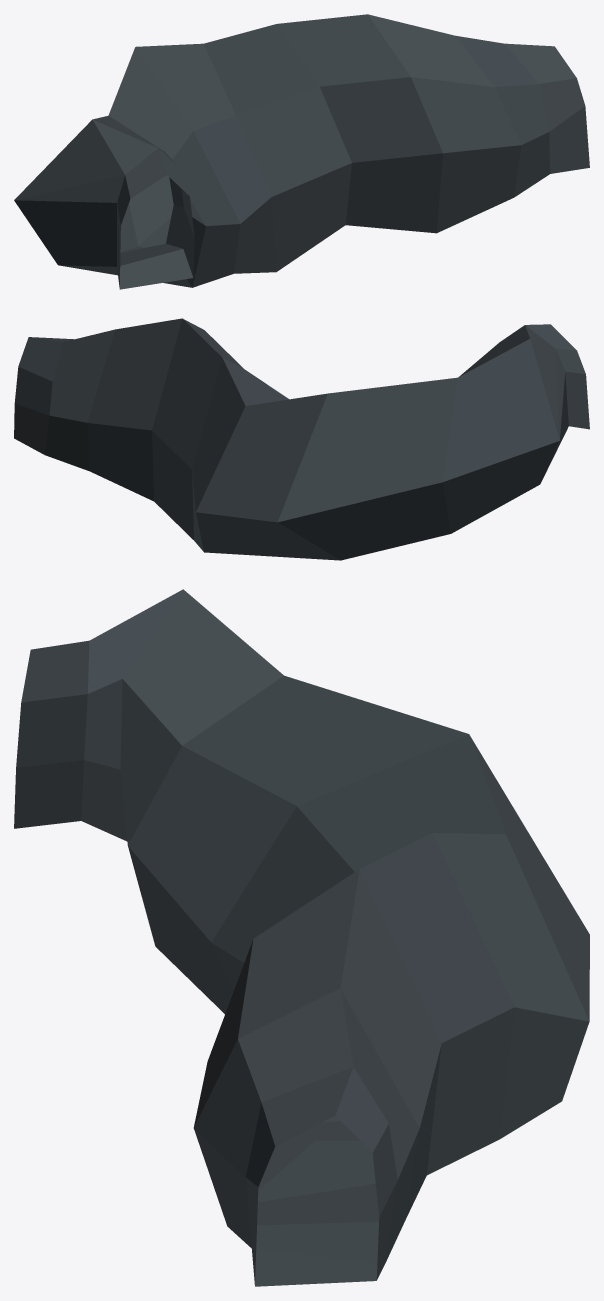
The model's file is Tunnel-C08.fbx.
3 views of the same model, one above another, from view 1: azimuth 30°, elevation 25°; view 2: azimuth 150°, elevation 25°; view 3: azimuth 270°, elevation 25° (orthographic). The views are drawn at different scales.
Parts seen in each view (by area): view 1: Tunnel-C08; view 2: Tunnel-C08; view 3: Tunnel-C08.
Part boxes in pixels (x1=…): Tunnel-C08: x1=14, y1=14, x2=589, y2=289; Tunnel-C08: x1=14, y1=318, x2=589, y2=560; Tunnel-C08: x1=14, y1=589, x2=589, y2=1286.
Size of the model in its own units: 796 by 1439 by 559.
